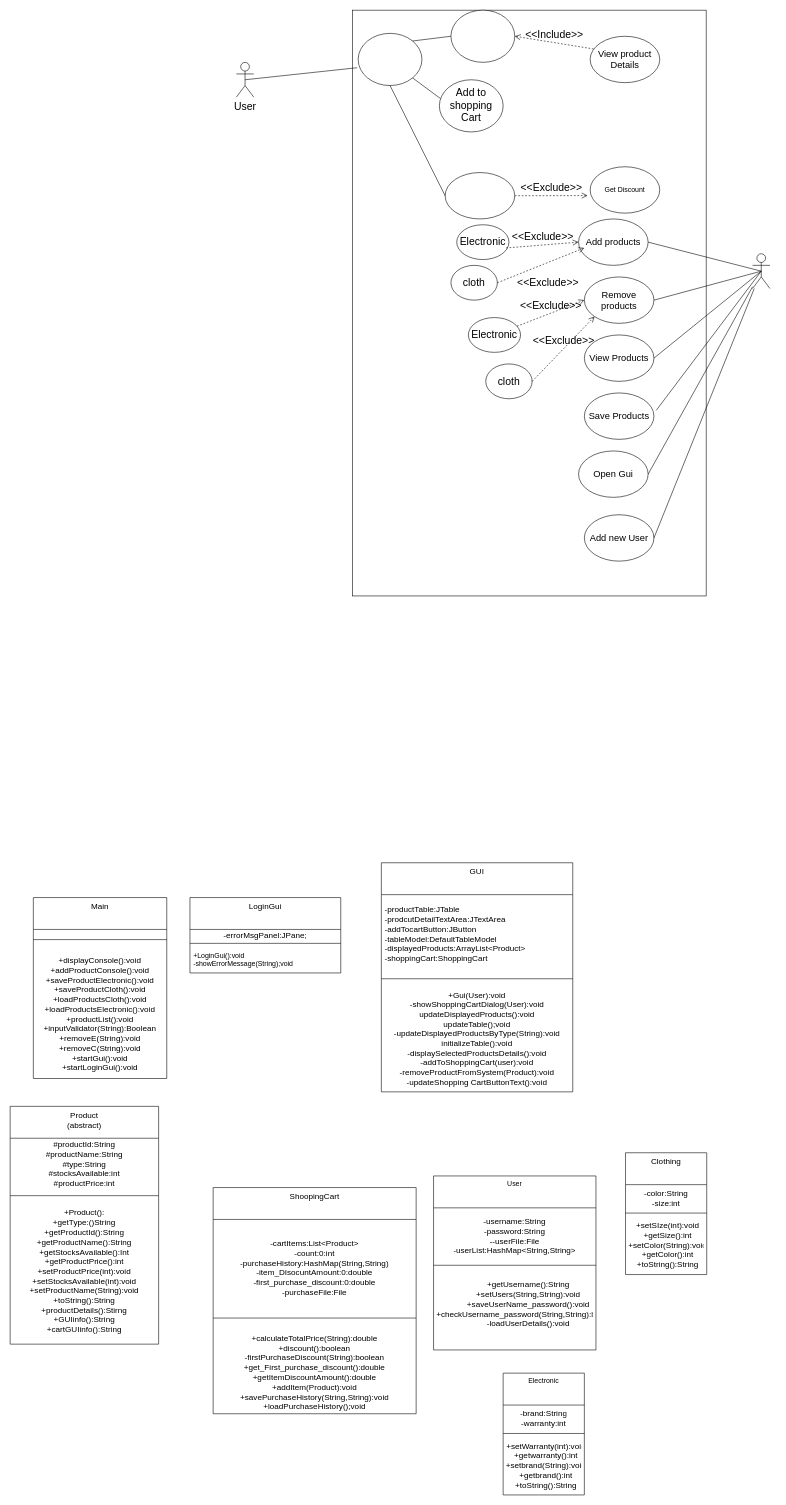
Image size: 786x1505. Some labels were removed from this diagram. The shapes that lost their labels are listed below. From the top down, each one's centre as x and y in pixels, then its label:
point 482,36: View product
point 390,59: Log in
point 480,195: Checkout
point 761,271: Admin
